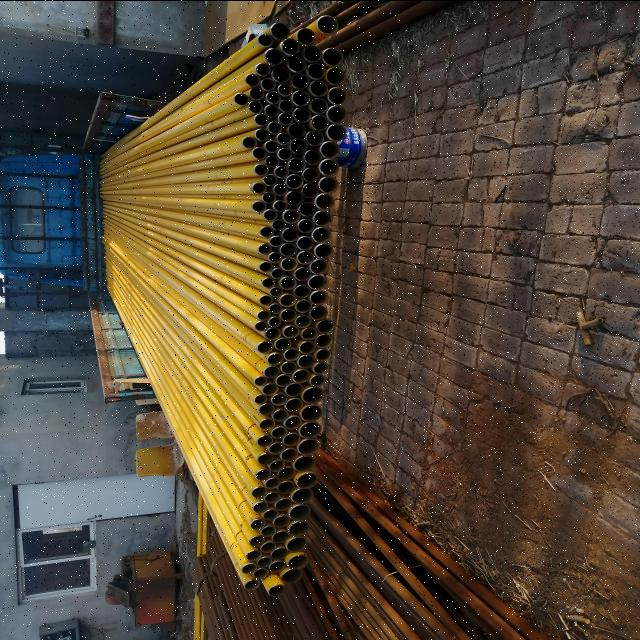pipe: (324, 65, 348, 85), (327, 85, 351, 105), (310, 256, 334, 276), (291, 454, 317, 472), (313, 207, 336, 227), (322, 46, 344, 66), (316, 191, 338, 211), (298, 436, 320, 456), (298, 420, 322, 438), (306, 61, 327, 81), (292, 69, 312, 90), (320, 140, 342, 159), (312, 241, 336, 258), (318, 13, 338, 33), (304, 43, 324, 63), (272, 64, 292, 84), (309, 77, 329, 97), (310, 94, 330, 114), (326, 104, 348, 122), (291, 105, 313, 123), (286, 534, 308, 552), (264, 46, 285, 64), (287, 54, 308, 72), (311, 226, 333, 243), (286, 553, 309, 569), (327, 122, 347, 140), (320, 157, 340, 175), (301, 180, 321, 198), (308, 274, 330, 290), (288, 520, 310, 536), (296, 26, 316, 43), (290, 88, 310, 105), (318, 175, 338, 192), (298, 471, 318, 488), (302, 387, 324, 402), (300, 404, 322, 419), (290, 488, 312, 503), (283, 38, 301, 56), (284, 394, 302, 412), (270, 22, 290, 38), (302, 165, 322, 181), (310, 304, 330, 320), (284, 381, 304, 397), (268, 440, 288, 456), (282, 567, 302, 583), (269, 544, 289, 560), (289, 504, 311, 518), (274, 163, 292, 180), (283, 208, 301, 225), (289, 137, 308, 153), (281, 256, 300, 272), (280, 241, 300, 256), (279, 307, 299, 322), (282, 324, 302, 339), (315, 333, 335, 348), (299, 200, 316, 217), (278, 96, 296, 112), (311, 114, 329, 130), (306, 130, 324, 146), (288, 156, 306, 172), (285, 172, 303, 188), (284, 190, 302, 206), (294, 265, 312, 281), (281, 292, 299, 308), (254, 372, 272, 388), (258, 400, 274, 418), (257, 414, 275, 430), (279, 465, 297, 481), (276, 496, 294, 512), (282, 431, 301, 446), (311, 290, 331, 304), (316, 320, 336, 334), (275, 373, 295, 387), (262, 170, 278, 187), (299, 352, 316, 368), (269, 558, 286, 574), (244, 72, 262, 87), (304, 149, 323, 163), (255, 338, 274, 352), (312, 360, 331, 374), (240, 134, 256, 150), (268, 118, 284, 134), (276, 144, 292, 160), (298, 217, 314, 233), (302, 324, 318, 340), (281, 360, 297, 376), (266, 474, 282, 490), (261, 522, 277, 538), (297, 235, 314, 250), (260, 77, 278, 91), (262, 102, 280, 116), (288, 122, 306, 136), (256, 258, 274, 272), (294, 298, 312, 312), (252, 319, 270, 333), (264, 364, 282, 378), (252, 391, 270, 405), (272, 408, 290, 422), (285, 415, 303, 429), (269, 458, 287, 472), (268, 582, 286, 596), (273, 514, 291, 528), (271, 529, 289, 543), (278, 80, 293, 96), (281, 228, 301, 240), (280, 274, 296, 289), (276, 336, 292, 351), (312, 373, 328, 388), (282, 447, 298, 462), (233, 91, 250, 105), (259, 224, 276, 238), (264, 152, 281, 166), (267, 351, 284, 365), (299, 340, 316, 354), (271, 425, 288, 439), (282, 348, 300, 361), (256, 61, 270, 77), (248, 86, 264, 100), (254, 127, 270, 141), (266, 90, 282, 104), (278, 110, 294, 124), (274, 198, 290, 212), (270, 217, 286, 231), (298, 250, 314, 264), (294, 284, 310, 298), (268, 284, 284, 298), (258, 292, 274, 306), (296, 314, 312, 328), (262, 382, 278, 396), (316, 347, 332, 361), (260, 540, 276, 554), (279, 480, 295, 494), (247, 99, 264, 112), (253, 162, 270, 175), (253, 467, 270, 480), (254, 113, 272, 125), (265, 328, 283, 340), (292, 369, 310, 381), (274, 182, 289, 196), (262, 275, 277, 289), (268, 301, 283, 315), (252, 146, 268, 159), (277, 132, 293, 145), (272, 392, 288, 405), (264, 508, 280, 521), (248, 534, 265, 546), (253, 566, 270, 578), (270, 265, 284, 279), (266, 490, 280, 504), (264, 139, 279, 152), (269, 235, 284, 248), (251, 485, 266, 498), (242, 561, 257, 574), (258, 33, 274, 45), (250, 181, 266, 193), (251, 200, 267, 212), (256, 308, 272, 320), (256, 434, 272, 446), (258, 452, 274, 464), (252, 500, 268, 512), (250, 516, 266, 528), (246, 549, 262, 561), (256, 555, 272, 567), (262, 190, 276, 203), (243, 579, 260, 589), (264, 208, 278, 220), (258, 242, 272, 254), (268, 250, 282, 262), (268, 316, 282, 326)
